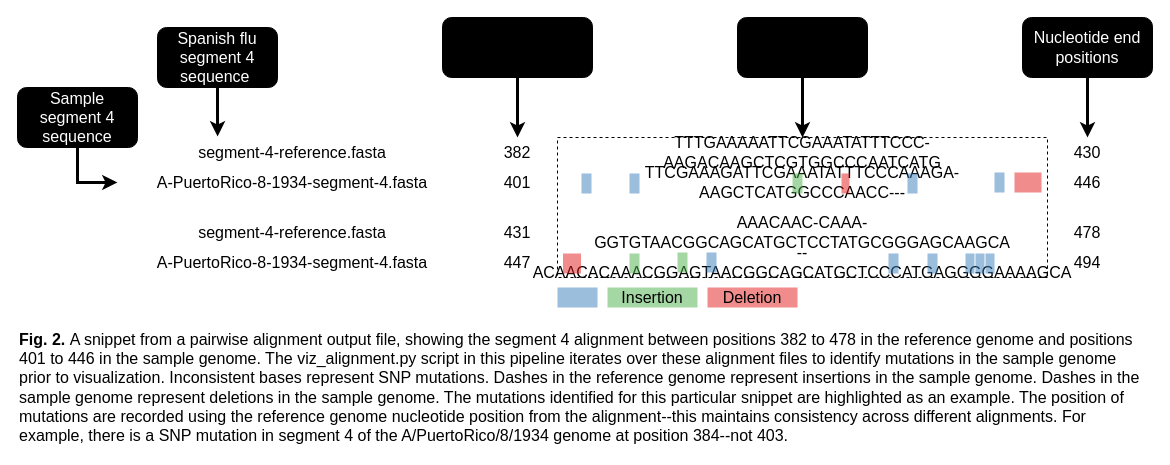
Image size: 1170x465. Some labels were removed from this diagram. Each missing label, with the centre of its shape:
"Aligned sequences" goes at point 802,47.
"Nucleotide start positions" goes at point 517,47.
"SNP" goes at point 577,297.
